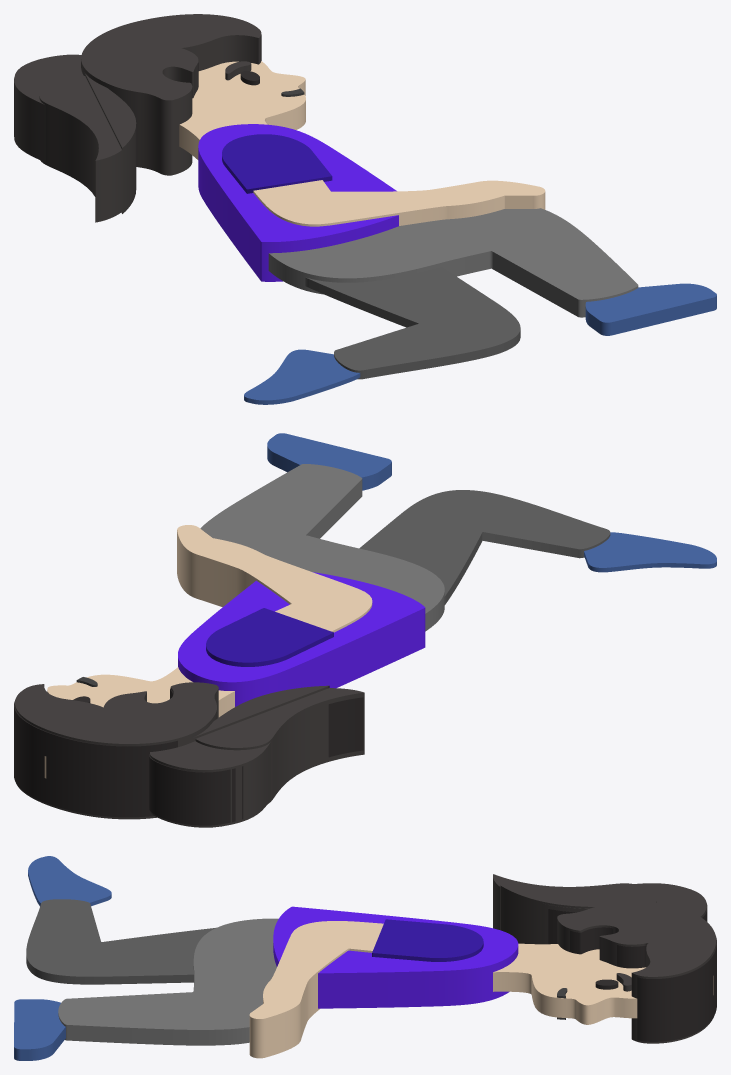
File: emoji_u1f9ce_1f3fb_200d_2640_200d_27a1.glb
The picture shows the model from 3 angles, top to bottom: view 1: azimuth 30°, elevation 25°; view 2: azimuth 150°, elevation 25°; view 3: azimuth 270°, elevation 25°; orthographic projection. The views are drawn at different scales.
Visible parts, largest first — view 1: emoji_u1f9ce_1f3fb_200d_2640_200d_27a1; view 2: emoji_u1f9ce_1f3fb_200d_2640_200d_27a1; view 3: emoji_u1f9ce_1f3fb_200d_2640_200d_27a1.
Boxes of the visible parts, x1,y1,x2,y2 form: emoji_u1f9ce_1f3fb_200d_2640_200d_27a1: [14, 14, 716, 404]; emoji_u1f9ce_1f3fb_200d_2640_200d_27a1: [14, 433, 716, 827]; emoji_u1f9ce_1f3fb_200d_2640_200d_27a1: [14, 856, 716, 1060].
Bounding box in the file's own units: 0.0215 × 0.0034 × 0.0325.
